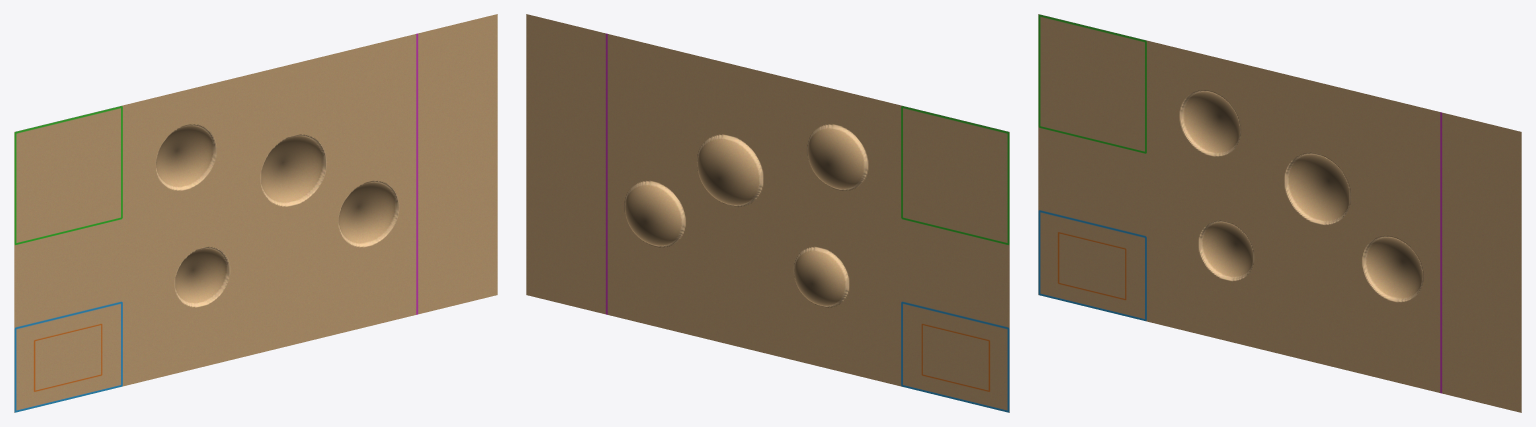
File: cat_terrain.obj
The picture shows the model from 3 angles, left to right: view 1: azimuth 30°, elevation 25°; view 2: azimuth 150°, elevation 25°; view 3: azimuth 330°, elevation 25°; orthographic projection.
Parts seen in each view (by area): view 1: SandTerrain; view 2: SandTerrain; view 3: SandTerrain.
Part boxes in pixels (x1,y1,x2,y2): SandTerrain: (14, 14, 497, 412); SandTerrain: (526, 14, 1009, 412); SandTerrain: (1038, 14, 1521, 412).
Size of the model in its own units: 9 by 5 by 0.35.
1 material, 1 textured.
